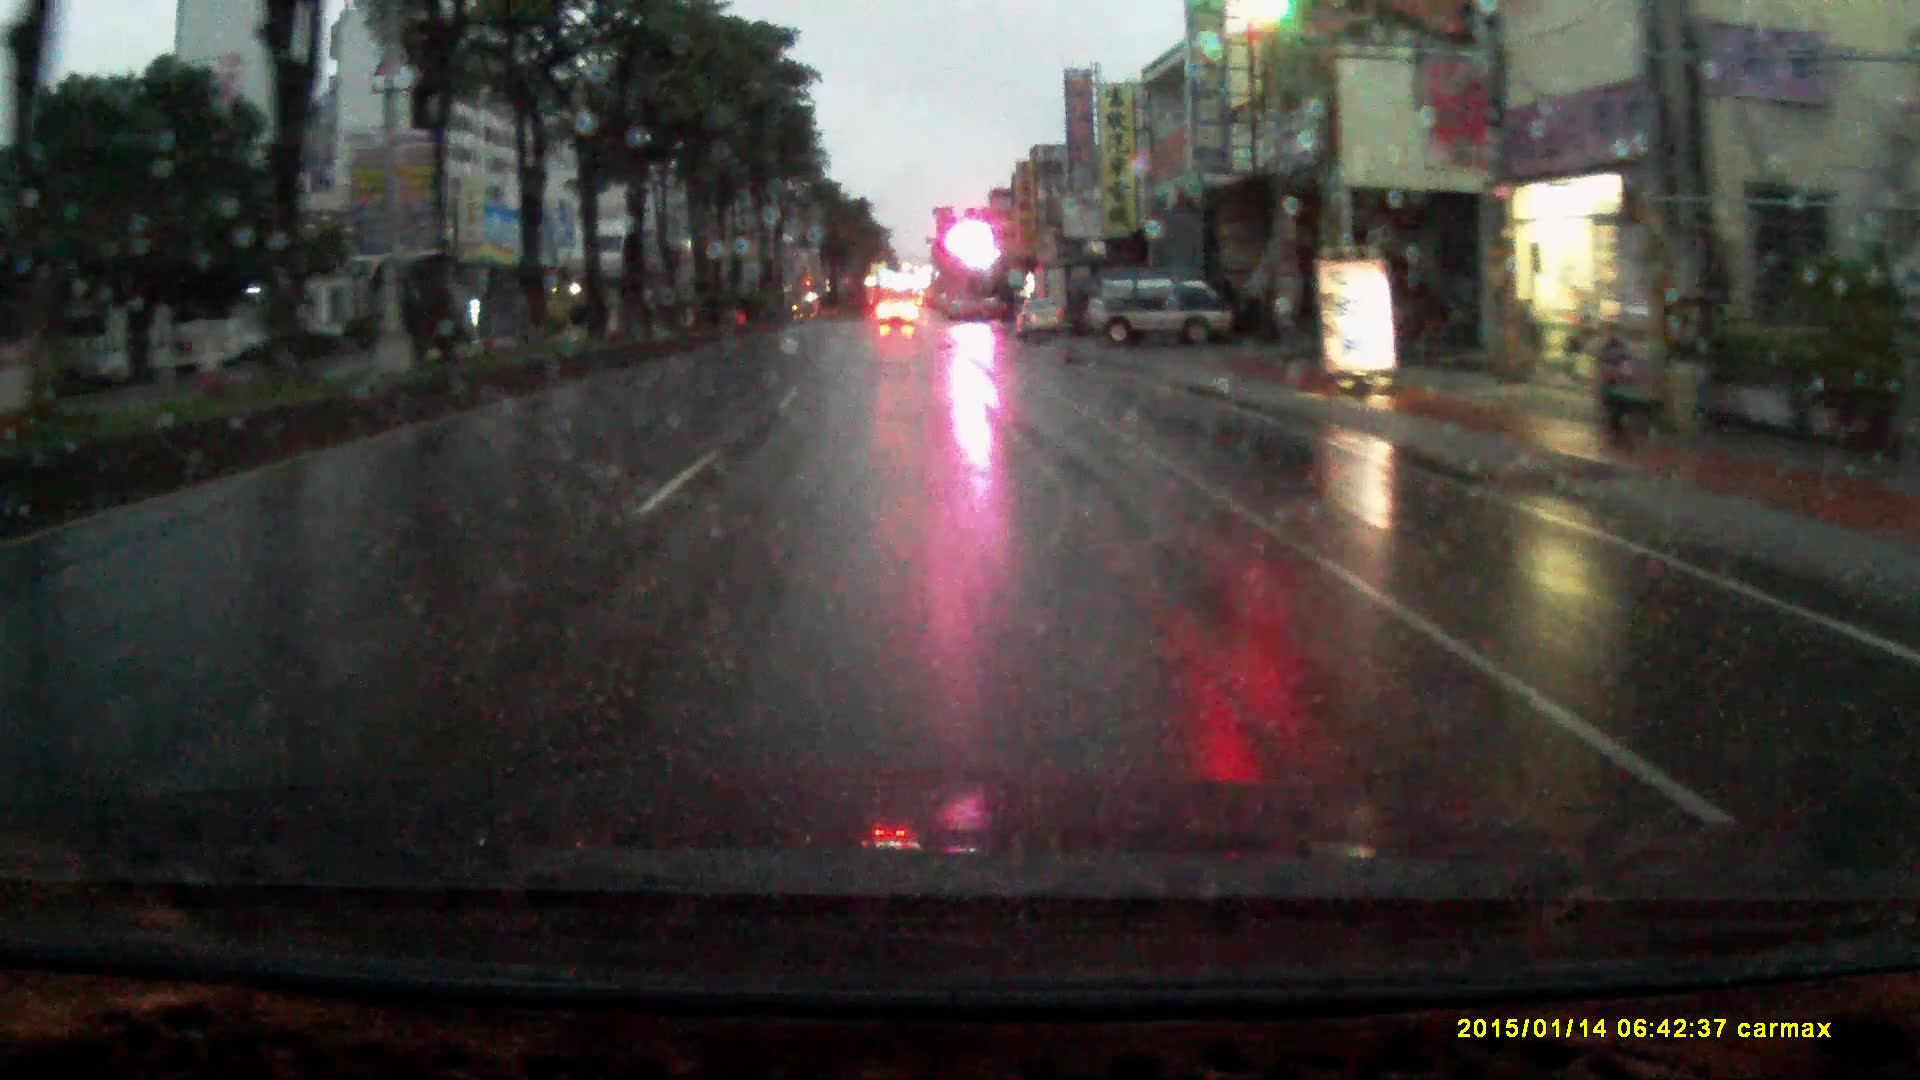vehicle: (1079, 276, 1240, 345), (1029, 247, 1097, 328), (1014, 295, 1069, 344), (877, 289, 919, 318)
